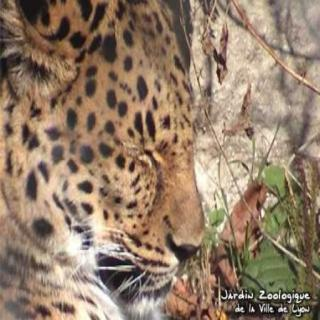Leopard: (0, 0, 217, 320)
